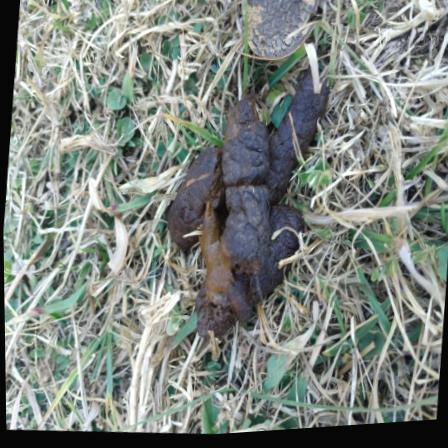dog-poop: (125, 34, 351, 381)
